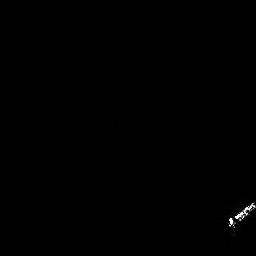ship: (224, 199, 256, 233)
